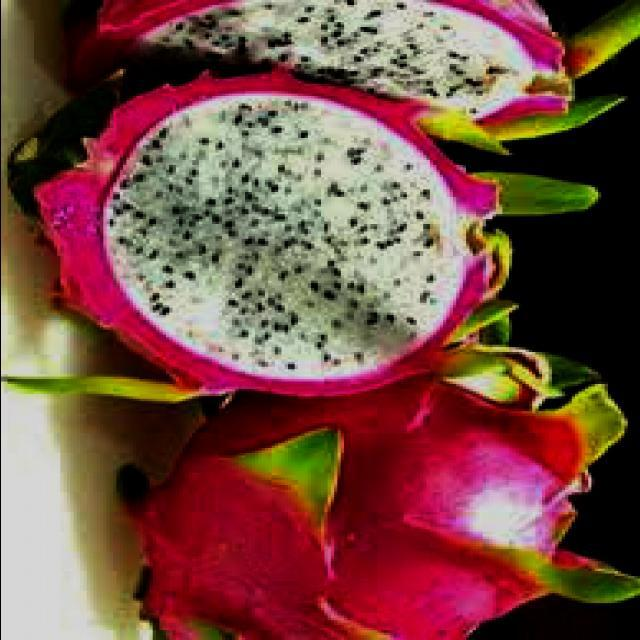trang: (24, 73, 500, 396), (126, 344, 640, 638), (81, 0, 639, 158)
